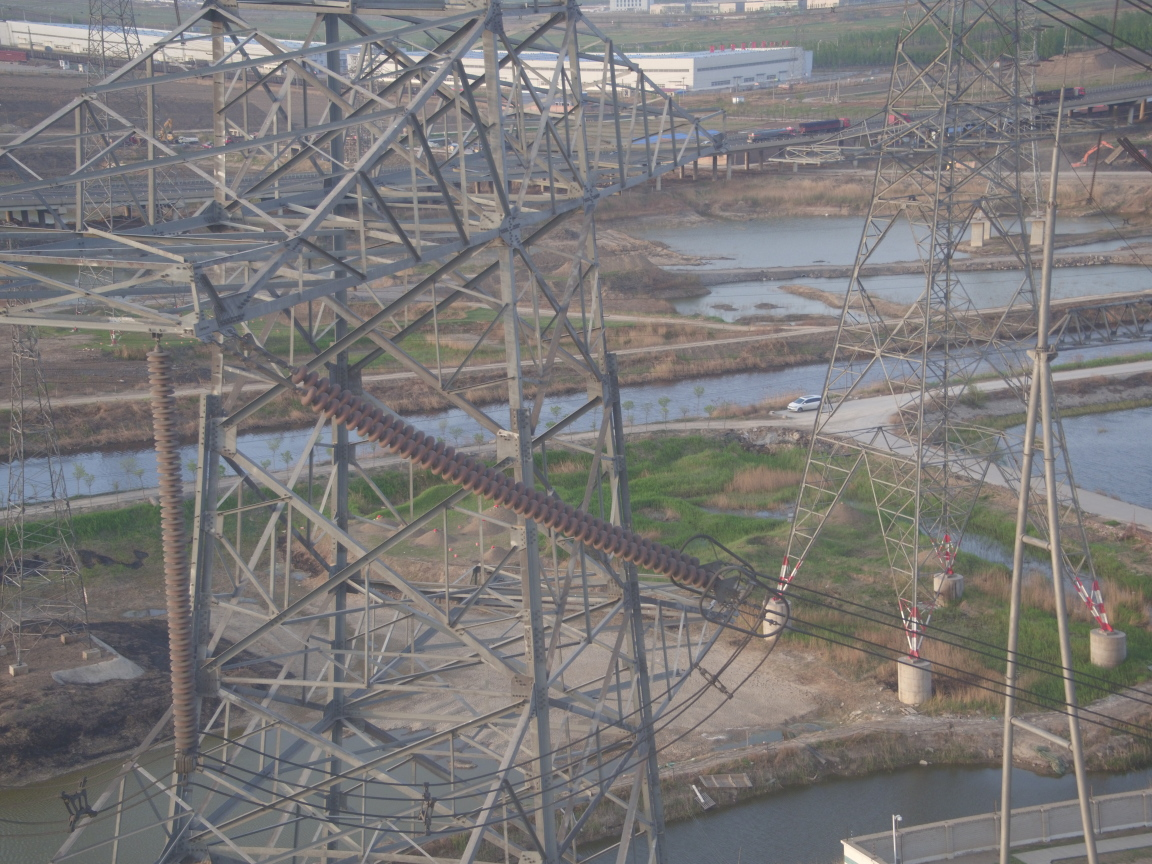insulator: (273, 359, 722, 593)
